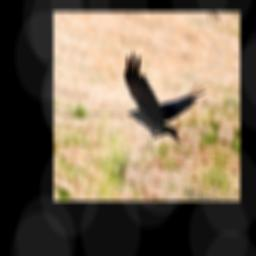Crow: (111, 49, 211, 153)
